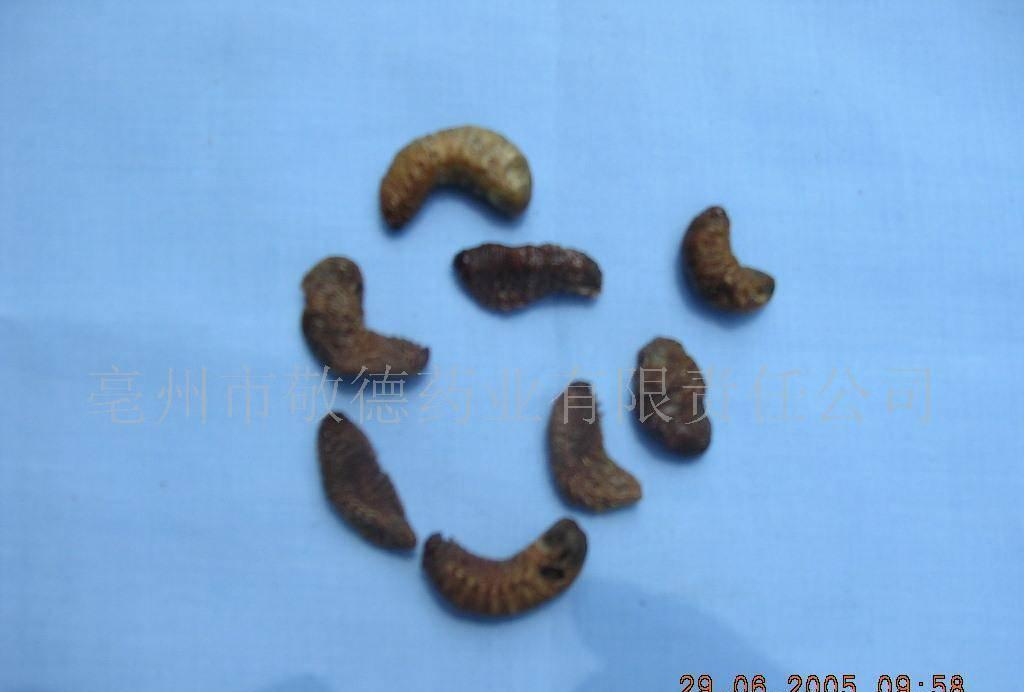grub: (418, 514, 590, 629)
